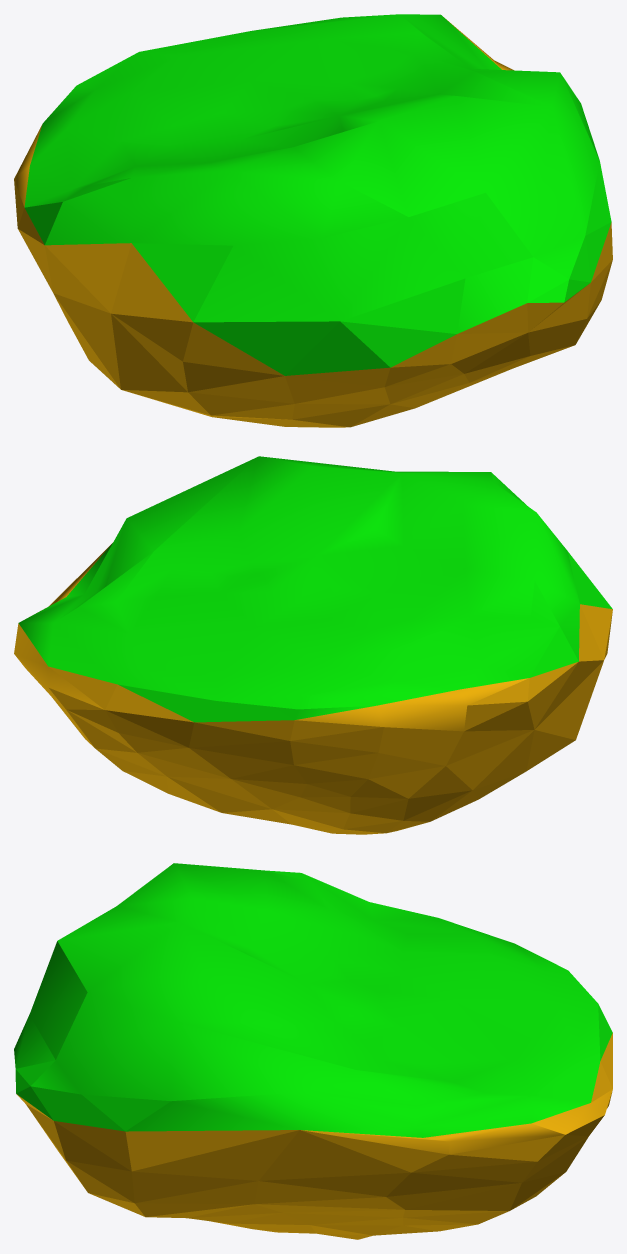
The model's file is LandChunkE.fbx.
The picture shows the model from 3 angles, top to bottom: view 1: azimuth 30°, elevation 25°; view 2: azimuth 150°, elevation 25°; view 3: azimuth 270°, elevation 25°; orthographic projection. The views are drawn at different scales.
Visible parts, largest first — view 1: LandChunkE; view 2: LandChunkE; view 3: LandChunkE.
Boxes of the visible parts, x1,y1,x2,y2 form: LandChunkE: (14, 14, 612, 427); LandChunkE: (14, 456, 612, 834); LandChunkE: (14, 863, 612, 1239).
Size of the model in its own units: 59.76 by 33.81 by 62.78.
